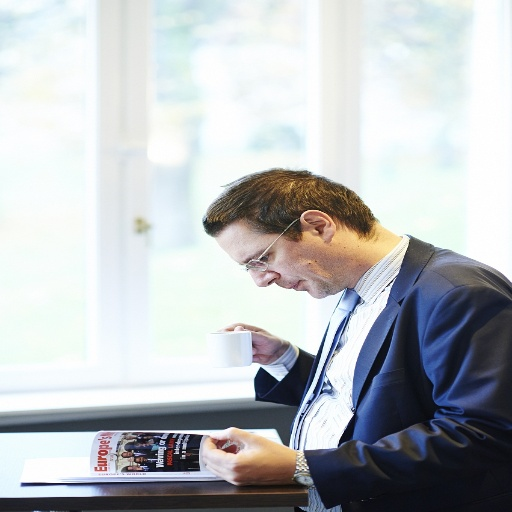hand: (200, 433, 320, 491), (212, 321, 286, 364)
